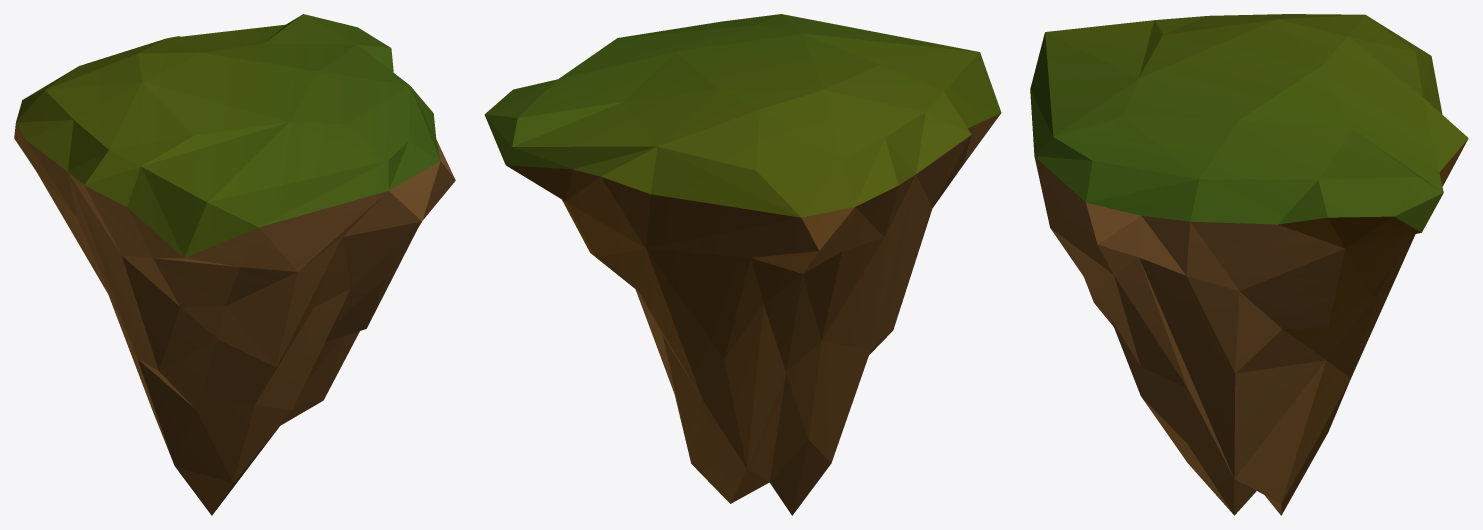
File: floating_rock.fbx
3 views of the same model, side by side, from view 1: azimuth 30°, elevation 25°; view 2: azimuth 150°, elevation 25°; view 3: azimuth 270°, elevation 25° (orthographic). The views are drawn at different scales.
Parts seen in each view (by area): view 1: rock_1; view 2: rock_1; view 3: rock_1.
Boxes of the visible parts, left/top/right/bottom form: rock_1: left=14, top=14, right=455, bottom=515; rock_1: left=484, top=14, right=1001, bottom=515; rock_1: left=1030, top=14, right=1468, bottom=515.
Size of the model in its own units: 6018 by 6682 by 5650.
